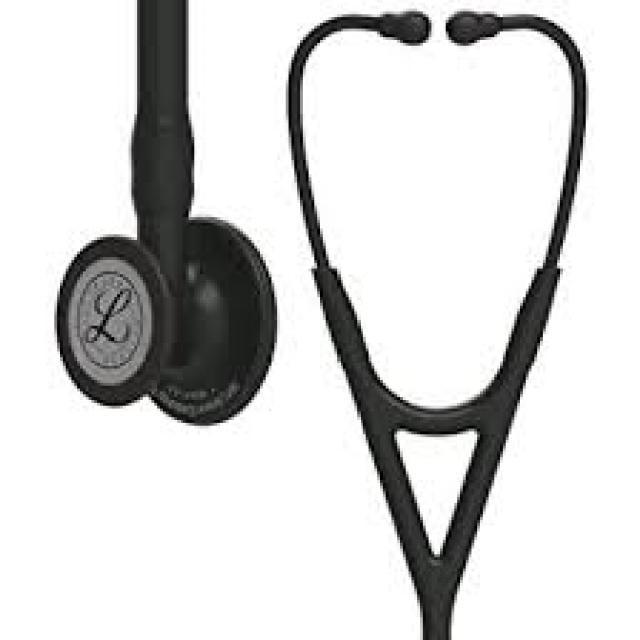stethoscope: (50, 43, 591, 613)
